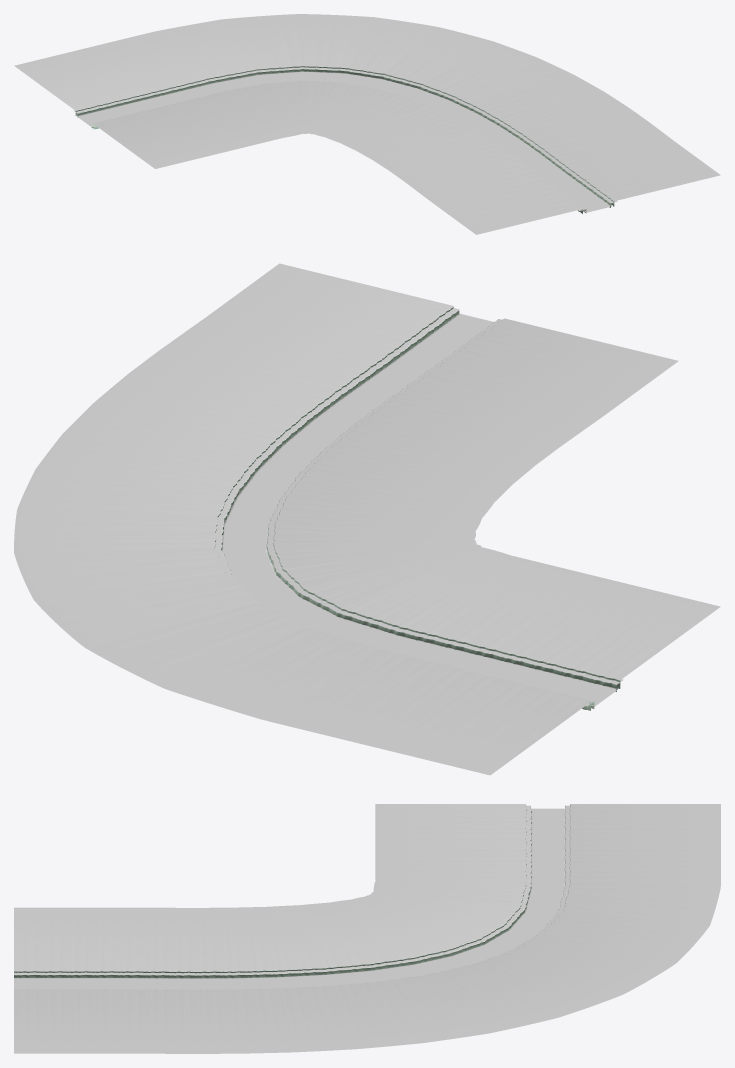
File: LeftCurveModule.fbx
The picture shows the model from 3 angles, top to bottom: view 1: azimuth 30°, elevation 25°; view 2: azimuth 150°, elevation 25°; view 3: azimuth 270°, elevation 25°; orthographic projection. The views are drawn at different scales.
Visible parts, largest first — view 1: Cube.045, Cube.044, Cube.043; view 2: Cube.045, Cube.044, Cube.043; view 3: Cube.045, Cube.044, Cube.043.
Part boxes in pixels (x1=…): Cube.045: x1=14, y1=14, x2=720, y2=207; Cube.044: x1=91, y1=80, x2=586, y2=234; Cube.043: x1=77, y1=71, x2=611, y2=212; Cube.045: x1=14, y1=263, x2=594, y2=775; Cube.044: x1=266, y1=318, x2=720, y2=691; Cube.043: x1=222, y1=313, x2=617, y2=707; Cube.045: x1=14, y1=804, x2=720, y2=1053; Cube.044: x1=14, y1=804, x2=531, y2=978; Cube.043: x1=14, y1=808, x2=565, y2=989.
Size of the model in its own units: 23131 by 309 by 27651.
